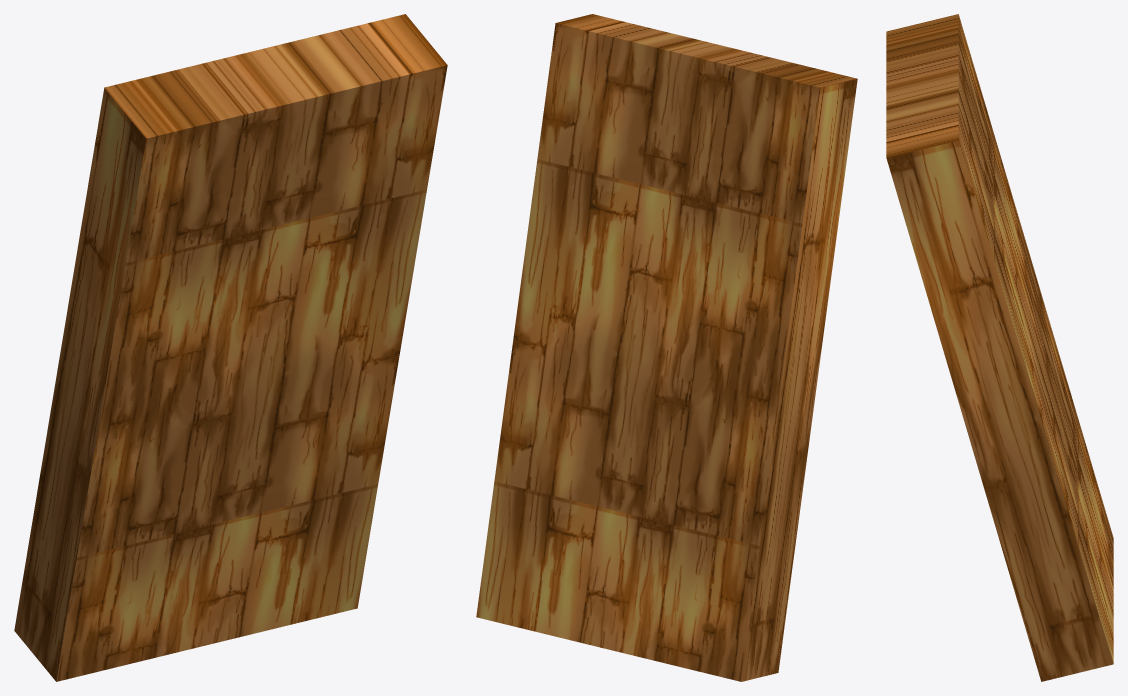
Rendered from DrawBridge4x2_Anim.FBX.
3 views of the same model, side by side, from view 1: azimuth 30°, elevation 25°; view 2: azimuth 150°, elevation 25°; view 3: azimuth 270°, elevation 25° (orthographic). The views are drawn at different scales.
Visible parts, largest first — view 1: Drawbrdge_SM; view 2: Drawbrdge_SM; view 3: Drawbrdge_SM.
Boxes of the visible parts, x1=… form: Drawbrdge_SM: x1=14, y1=14, x2=447, y2=681; Drawbrdge_SM: x1=476, y1=14, x2=857, y2=681; Drawbrdge_SM: x1=886, y1=14, x2=1113, y2=681.
Bounding box in the file's own units: 200 × 399 × 152.
1 material, 1 textured.
